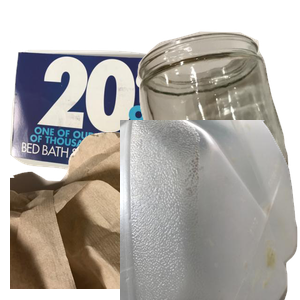glass: (135, 29, 300, 209)
paper: (10, 41, 242, 207)
plastic: (120, 120, 300, 300)
trash: (10, 120, 229, 300)
